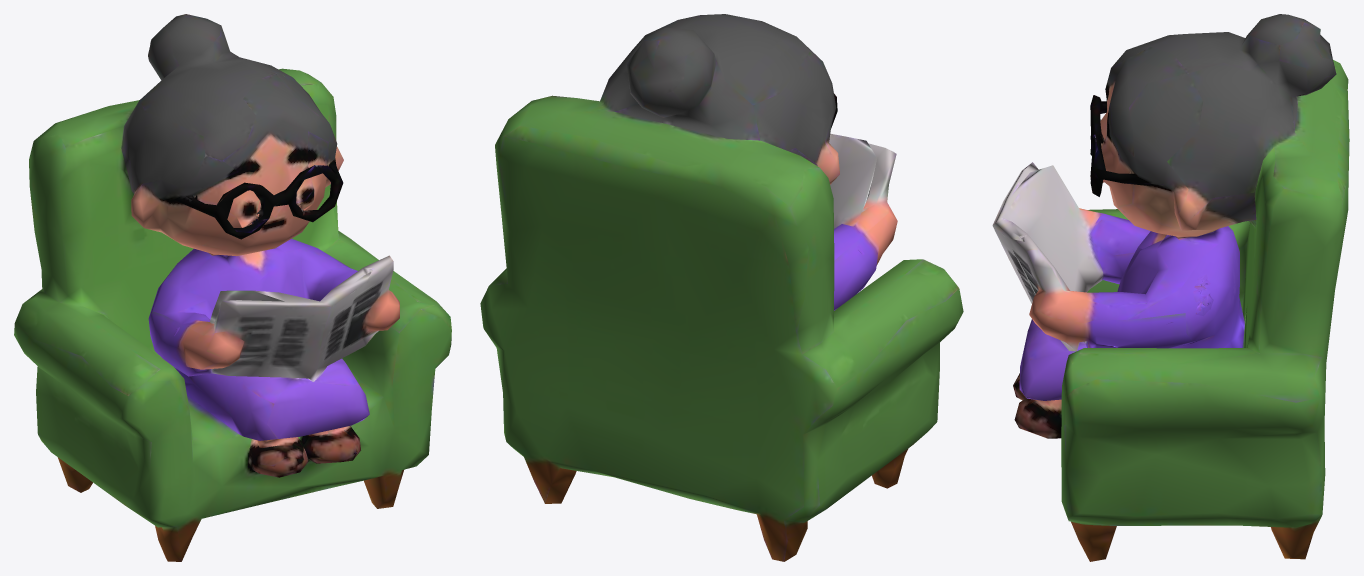
Rendered from owner.glb.
3 views of the same model, side by side, from view 1: azimuth 30°, elevation 25°; view 2: azimuth 150°, elevation 25°; view 3: azimuth 270°, elevation 25° (orthographic). The views are drawn at different scales.
Size of the model in its own units: 0.771 by 0.998 by 0.6635.
1 material, 1 textured.
